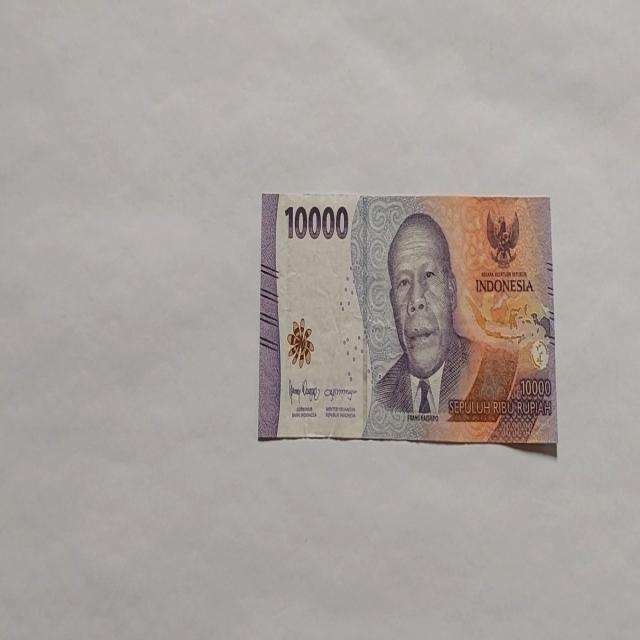sepuluh ribu rupiah: (258, 190, 558, 449), (360, 210, 520, 441)
